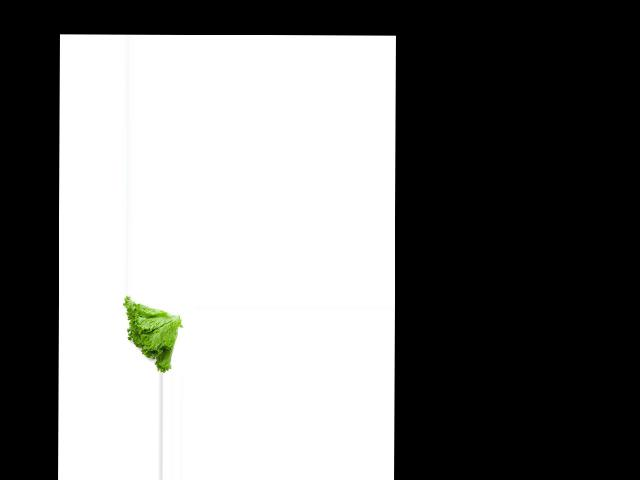lettuce: (121, 295, 181, 373)
